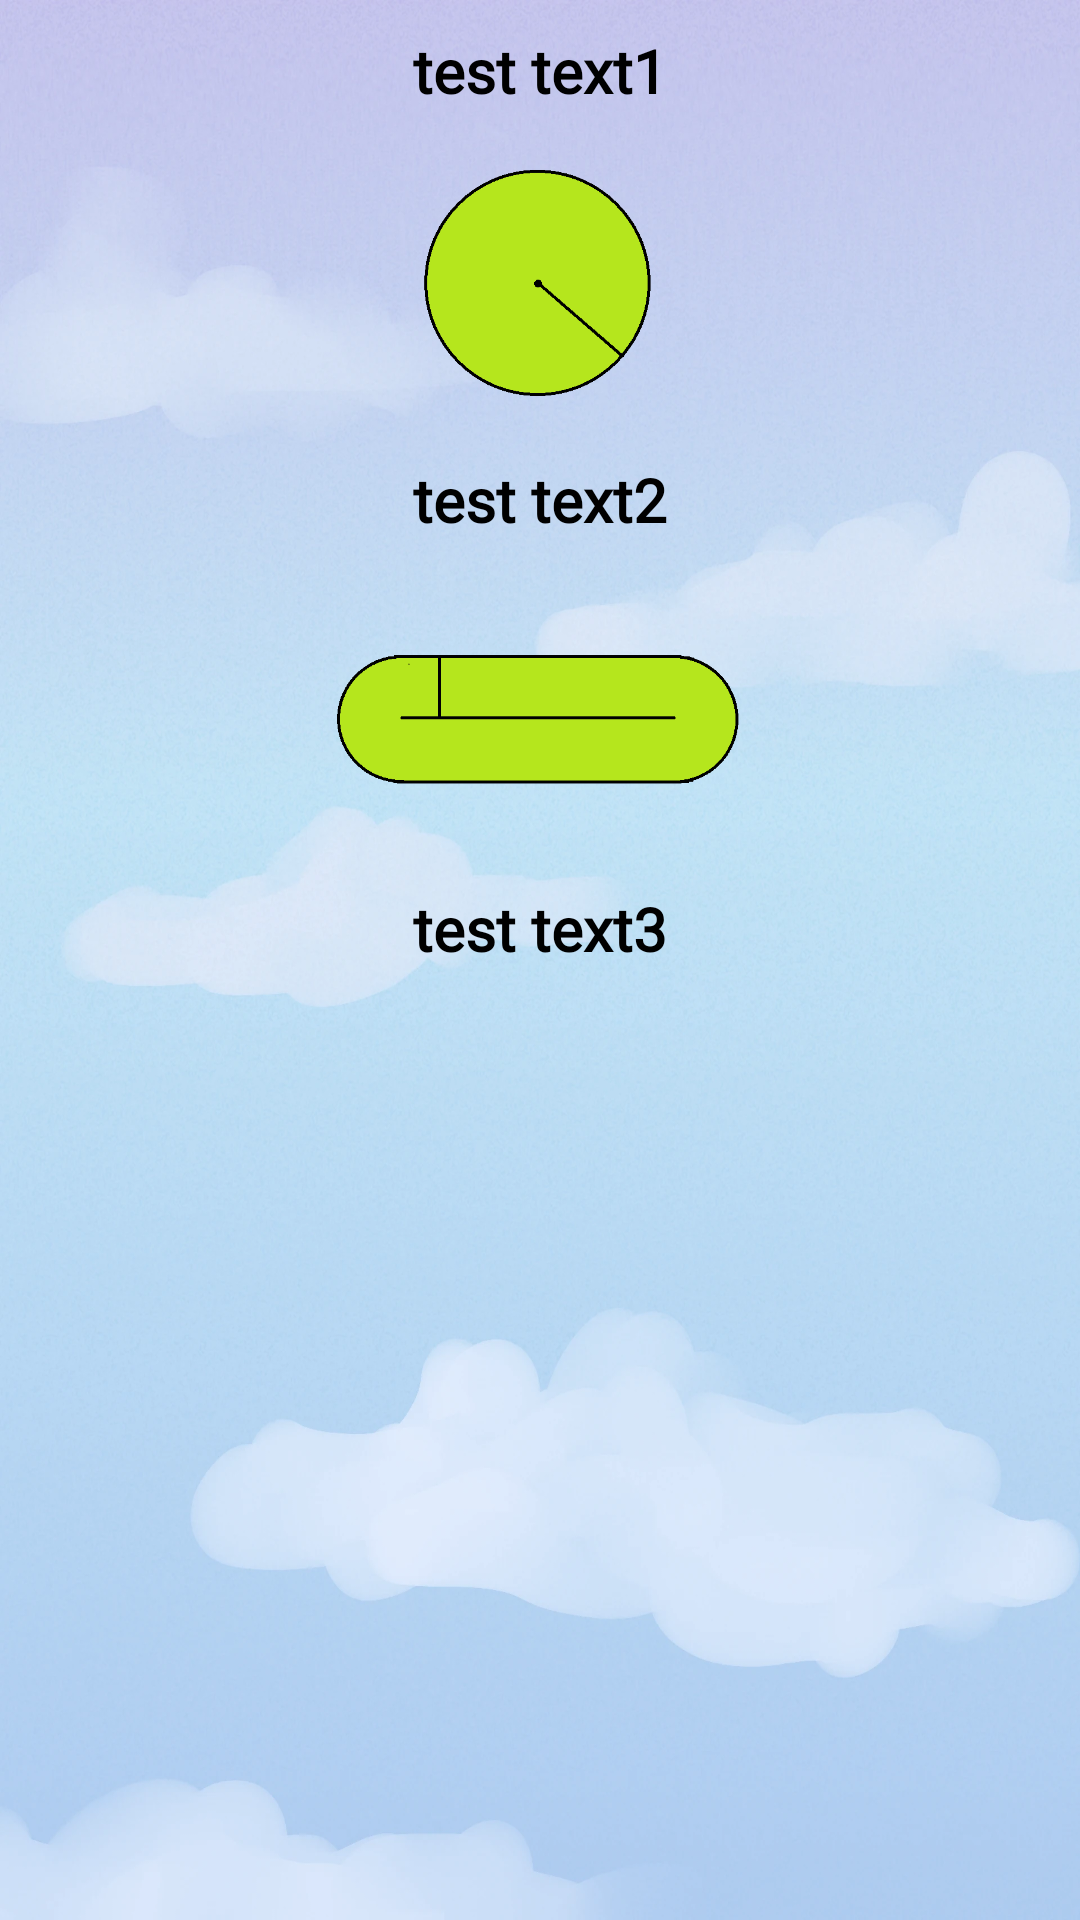

Icon click points for this 1080px x 1920px phone screenshot, format point (x, y):
condition circle: point (537, 283)
